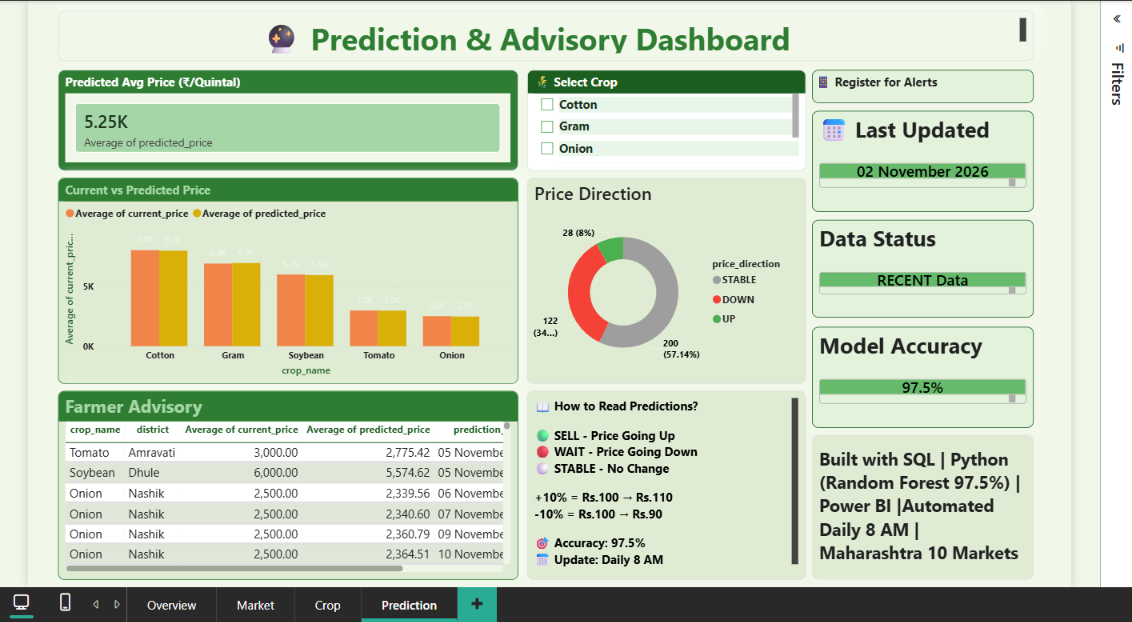

The dashboard page shown, as its layout file describes it:
{"tool":"powerbi","page":{"name":"Prediction","canvas":[1280,720],"ordinal":3},"visuals":[{"type":"cardVisual","title":"Predicted Avg Price (₹/Quintal)","fields":{"Data":["Avg(predictions.predicted_price)"]},"box":[36.8,84.7,564.4,123.9],"z":0},{"type":"clusteredColumnChart","title":"Current vs Predicted Price","fields":{"Category":["predictions.crop_name"],"Y":["Avg(predictions.current_price)","Avg(predictions.predicted_price)"]},"box":[36.8,217.2,564.4,252.8],"z":1000},{"type":"tableEx","title":"Farmer Advisory","fields":{"Values":["predictions.crop_name","markets.district","Avg(predictions.current_price)","Avg(predictions.predicted_price)","predictions.prediction_date","predictions.price_change_pct"]},"box":[36.8,478.5,564.4,231.9],"z":2000},{"type":"slicer","title":"🌾 Select Crop","fields":{"Values":["predictions.crop_name"]},"box":[612.3,84.7,342.3,123.9],"z":3000},{"type":"textbox","box":[36.8,12.3,1197.6,61.4],"z":4000},{"type":"cardVisual","title":"📅 Last Updated","fields":{"Rows":["dashboard_freshness.last_data_date"]},"box":[962,135,272.4,123.9],"z":5000},{"type":"cardVisual","title":"Data Status","fields":{"Rows":["dashboard_freshness.data_status"]},"box":[962,268.7,272.4,120.2],"z":6000},{"type":"cardVisual","title":"Model Accuracy","fields":{"Rows":["prediction_accuracy.model_accuracy_mape"]},"box":[962,400,272.4,123.9],"z":7000},{"type":"donutChart","title":"Price Direction","fields":{"Category":["prediction_advisory_summary.price_direction"],"Y":["CountNonNull(prediction_advisory_summary.crop_name)"]},"box":[612.3,217.2,342.3,252.8],"z":8000},{"type":"textbox","box":[612.3,478.5,342.3,231.9],"z":9000},{"type":"actionButton","title":"📱 Register for Alerts","box":[962,84.7,272.4,40.5],"z":10000},{"type":"textbox","box":[962,532.5,272.4,177.9],"z":11000}]}

Visuals, with their boxes on the page's 1280x720 design canvas (x1, y1, x2, y2). These are canvas units, not pixel positions in the 1132x622 screenshot, which may show the page scaled, cropped or inside an application window:
"Predicted Avg Price (₹/Quintal)" cardVisual: 37,85,601,209
"Current vs Predicted Price" clusteredColumnChart: 37,217,601,470
"Farmer Advisory" tableEx: 37,478,601,710
"🌾 Select Crop" slicer: 612,85,955,209
textbox: 37,12,1234,74
"📅 Last Updated" cardVisual: 962,135,1234,259
"Data Status" cardVisual: 962,269,1234,389
"Model Accuracy" cardVisual: 962,400,1234,524
"Price Direction" donutChart: 612,217,955,470
textbox: 612,478,955,710
"📱 Register for Alerts" actionButton: 962,85,1234,125
textbox: 962,532,1234,710
